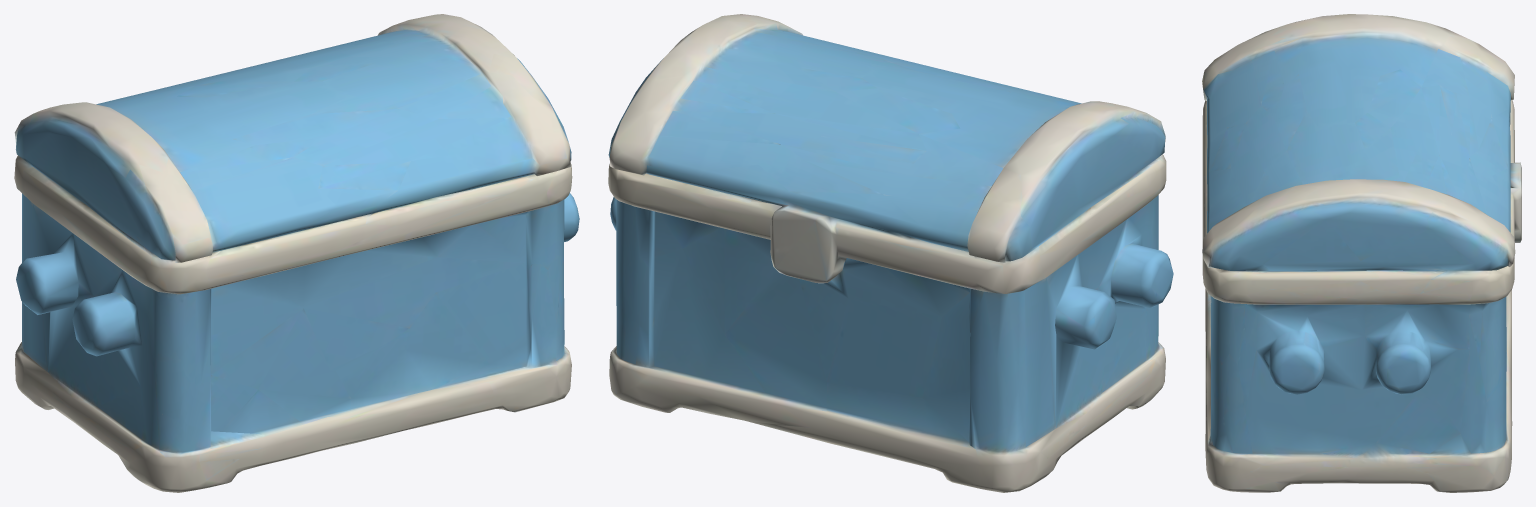
Rendered from toy_box.glb.
3 views of the same model, side by side, from view 1: azimuth 30°, elevation 25°; view 2: azimuth 150°, elevation 25°; view 3: azimuth 270°, elevation 25° (orthographic). The views are drawn at different scales.
Parts seen in each view (by area): view 1: tripo_node_2e030de1-be48-4330-b0f1-99ca739c031b; view 2: tripo_node_2e030de1-be48-4330-b0f1-99ca739c031b; view 3: tripo_node_2e030de1-be48-4330-b0f1-99ca739c031b.
Part boxes in pixels (x1=…): tripo_node_2e030de1-be48-4330-b0f1-99ca739c031b: x1=14, y1=14, x2=579, y2=492; tripo_node_2e030de1-be48-4330-b0f1-99ca739c031b: x1=608, y1=14, x2=1173, y2=492; tripo_node_2e030de1-be48-4330-b0f1-99ca739c031b: x1=1202, y1=14, x2=1521, y2=492.
Size of the model in its own units: 0.8 by 0.4917 by 0.4819.
Materials: 1 (1 with a texture image).
